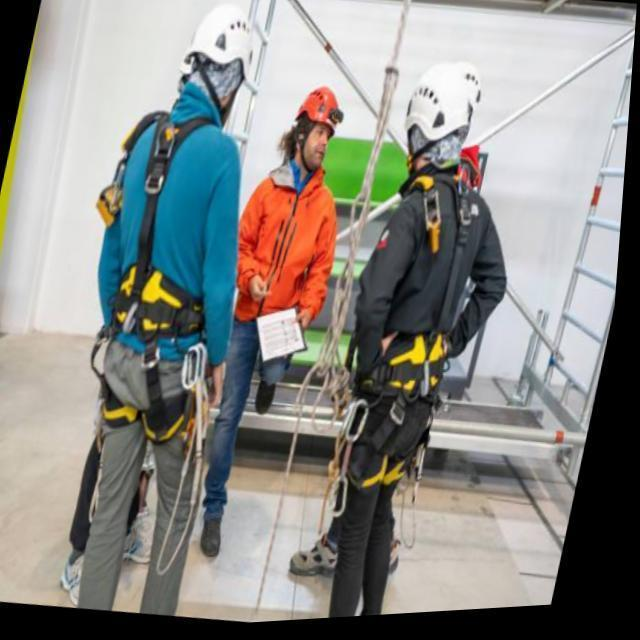Harness: (101, 113, 211, 444), (363, 168, 481, 398)
